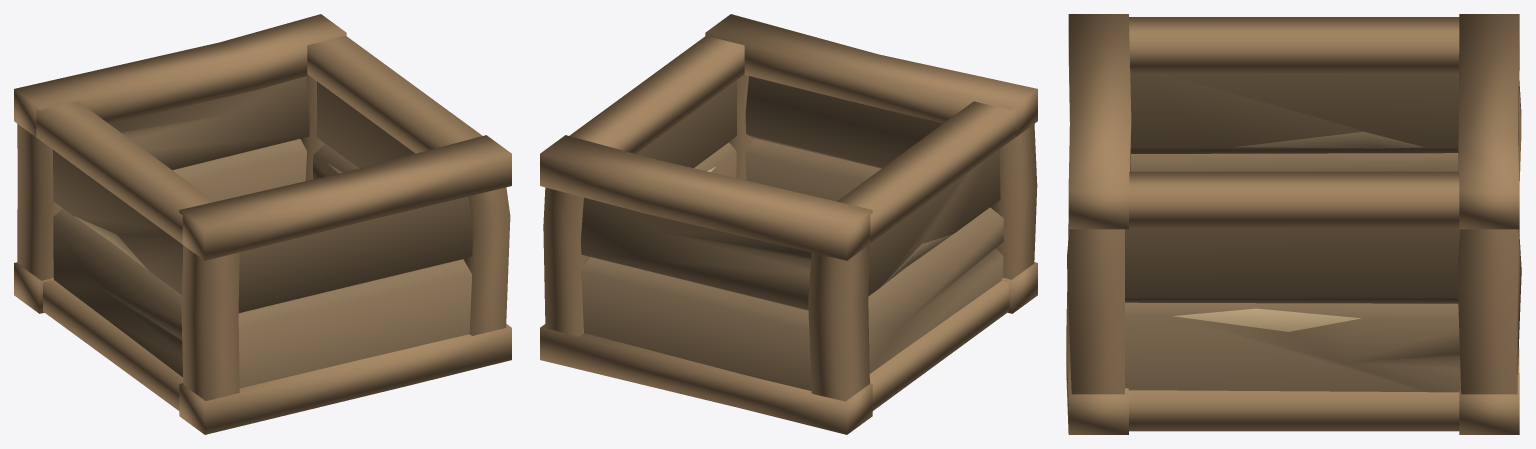
Rendered from rpgpp_ag_crate_01a.fbx.
The picture shows the model from 3 angles, left to right: view 1: azimuth 30°, elevation 25°; view 2: azimuth 150°, elevation 25°; view 3: azimuth 270°, elevation 25°; orthographic projection. The views are drawn at different scales.
Visible parts, largest first — view 1: rpgpp_ag_crate_01a; view 2: rpgpp_ag_crate_01a; view 3: rpgpp_ag_crate_01a.
Part boxes in pixels (bbox=[...]): rpgpp_ag_crate_01a: bbox=[14, 14, 511, 434]; rpgpp_ag_crate_01a: bbox=[540, 14, 1037, 434]; rpgpp_ag_crate_01a: bbox=[1066, 14, 1521, 434].
Size of the model in its own units: 0.6984 by 0.4492 by 0.7578.
